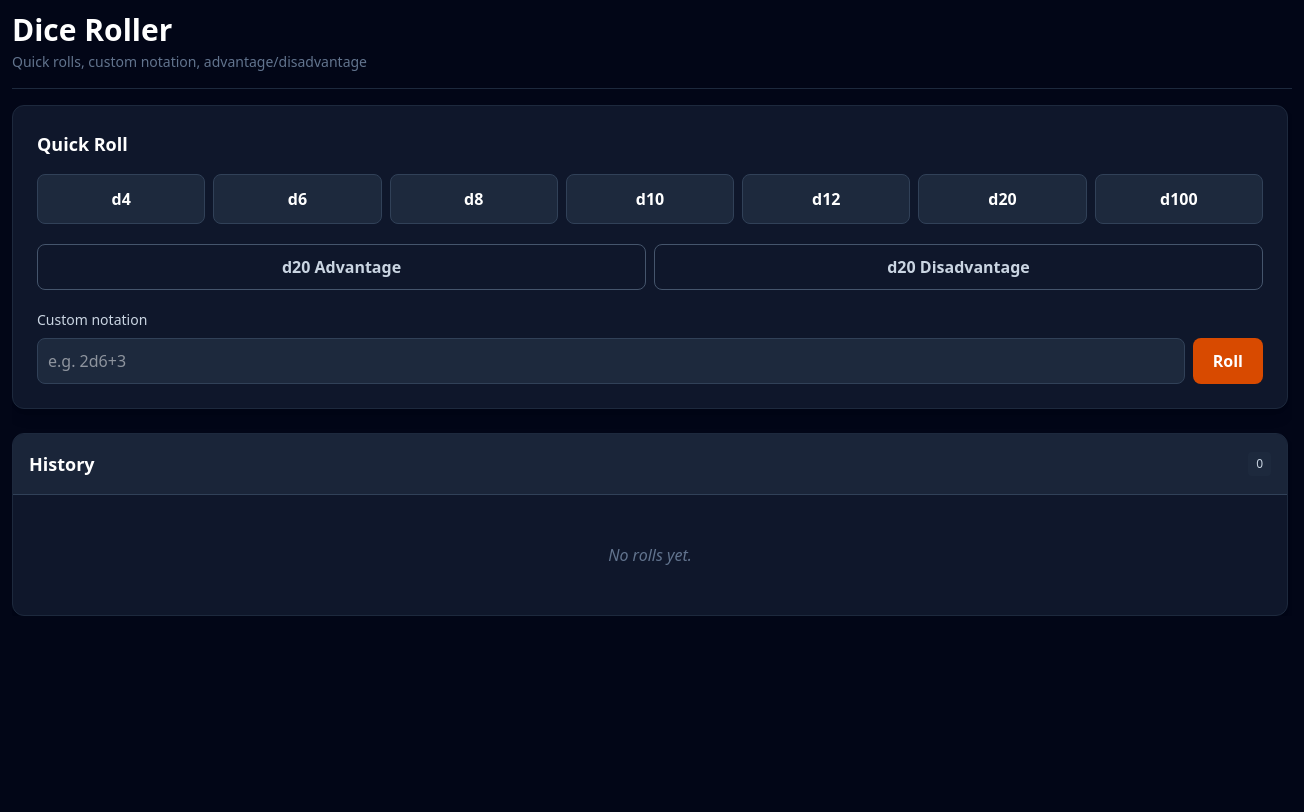
Test: DiceRollerView › advantage keeps the higher of two d20 rolls and shows both
Click the button "d20 Advantage": (342, 267) [37,244,646,290]
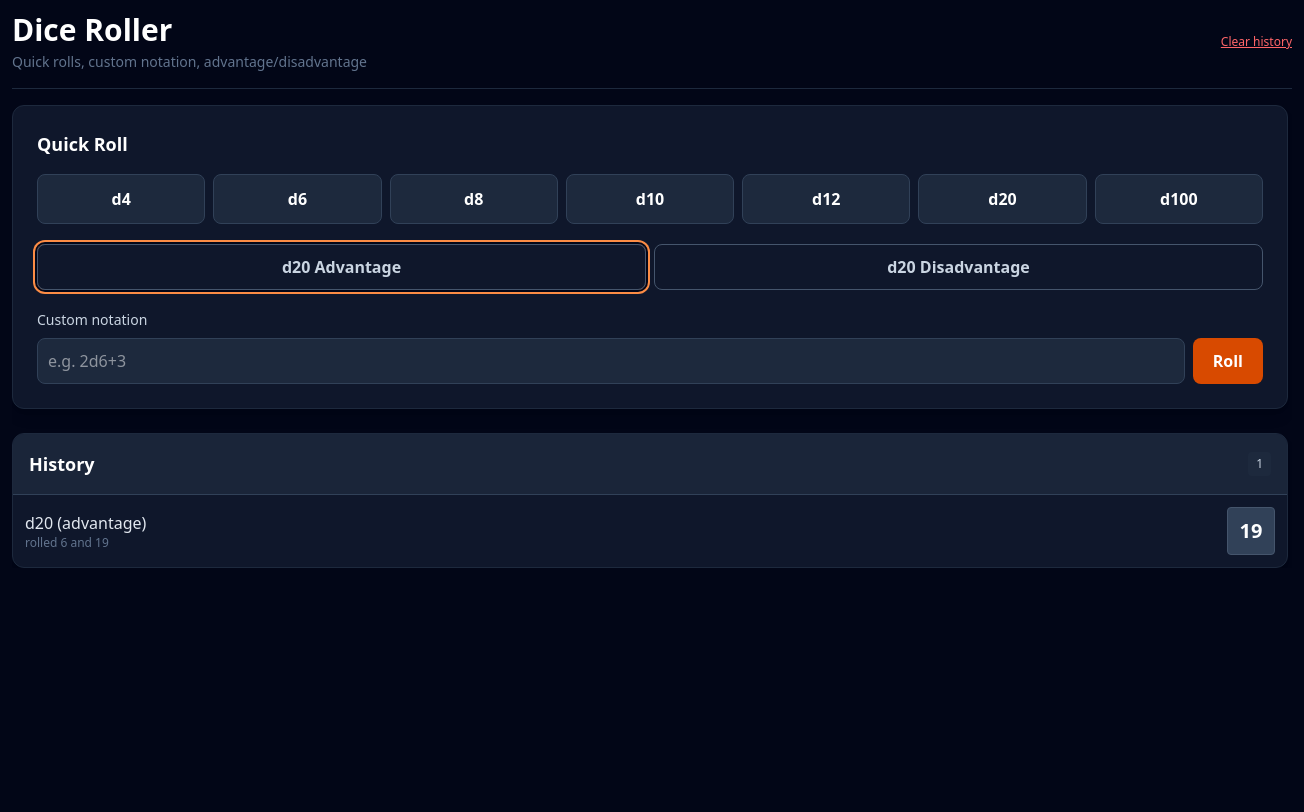
Result: the text "d20 (advantage)" is shown at [25,511,146,535]
Result: the text "rolled 6 and 19" is shown at [25,534,109,551]
Result: the text "19" is shown at [1227,507,1275,555]
